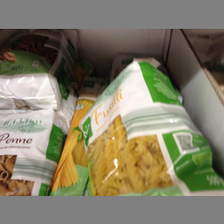pasta: (78, 60, 224, 197), (1, 30, 78, 107), (1, 110, 62, 196)
